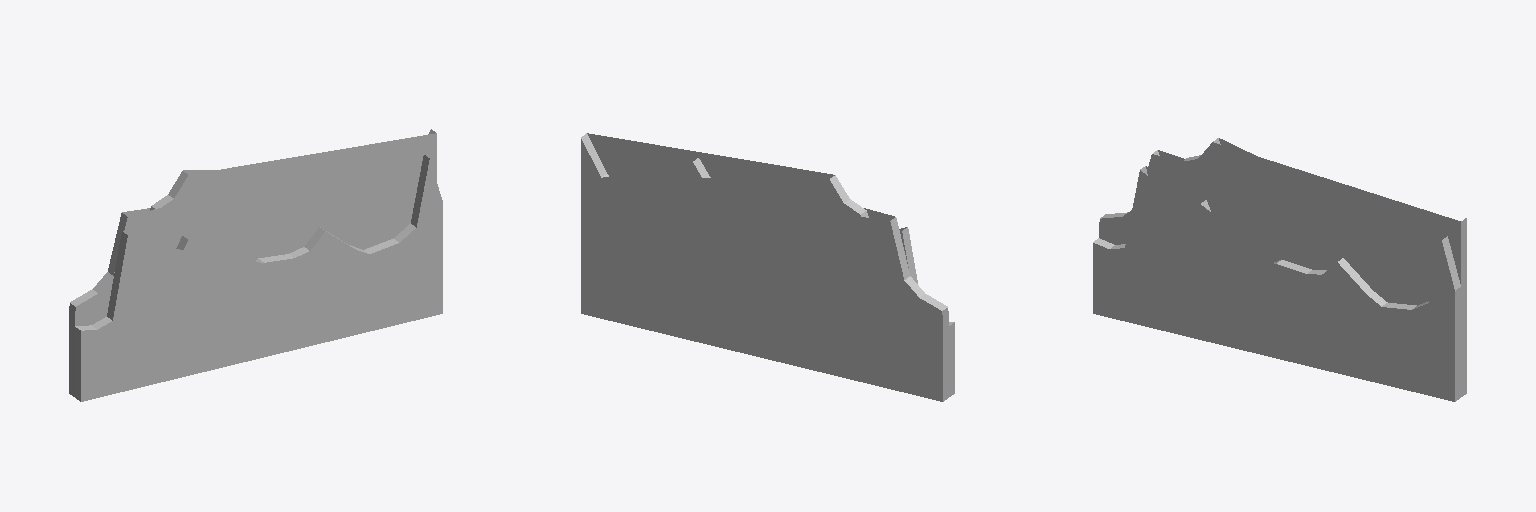
The model's file is blood pressure.obj.
The picture shows the model from 3 angles: view 1: azimuth 30°, elevation 25°; view 2: azimuth 150°, elevation 25°; view 3: azimuth 330°, elevation 25°; orthographic projection.
Visible parts, largest first — view 1: Mesh1 Component_5_1 Model, Mesh2 Component_6_1 Model; view 2: Mesh2 Component_6_1 Model, Mesh1 Component_5_1 Model; view 3: Mesh1 Component_5_1 Model, Mesh2 Component_6_1 Model.
Boxes of the visible parts, box(x1,y1,x2,y2) form: Mesh1 Component_5_1 Model: box(75, 155, 442, 401); Mesh2 Component_6_1 Model: box(69, 129, 436, 396); Mesh2 Component_6_1 Model: box(581, 133, 948, 401); Mesh1 Component_5_1 Model: box(599, 157, 954, 396); Mesh1 Component_5_1 Model: box(1093, 166, 1460, 401); Mesh2 Component_6_1 Model: box(1099, 138, 1466, 396).
Bounding box in the file's own units: 69.69 × 35.88 × 4.